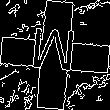M_S: (30, 28, 80, 82)
